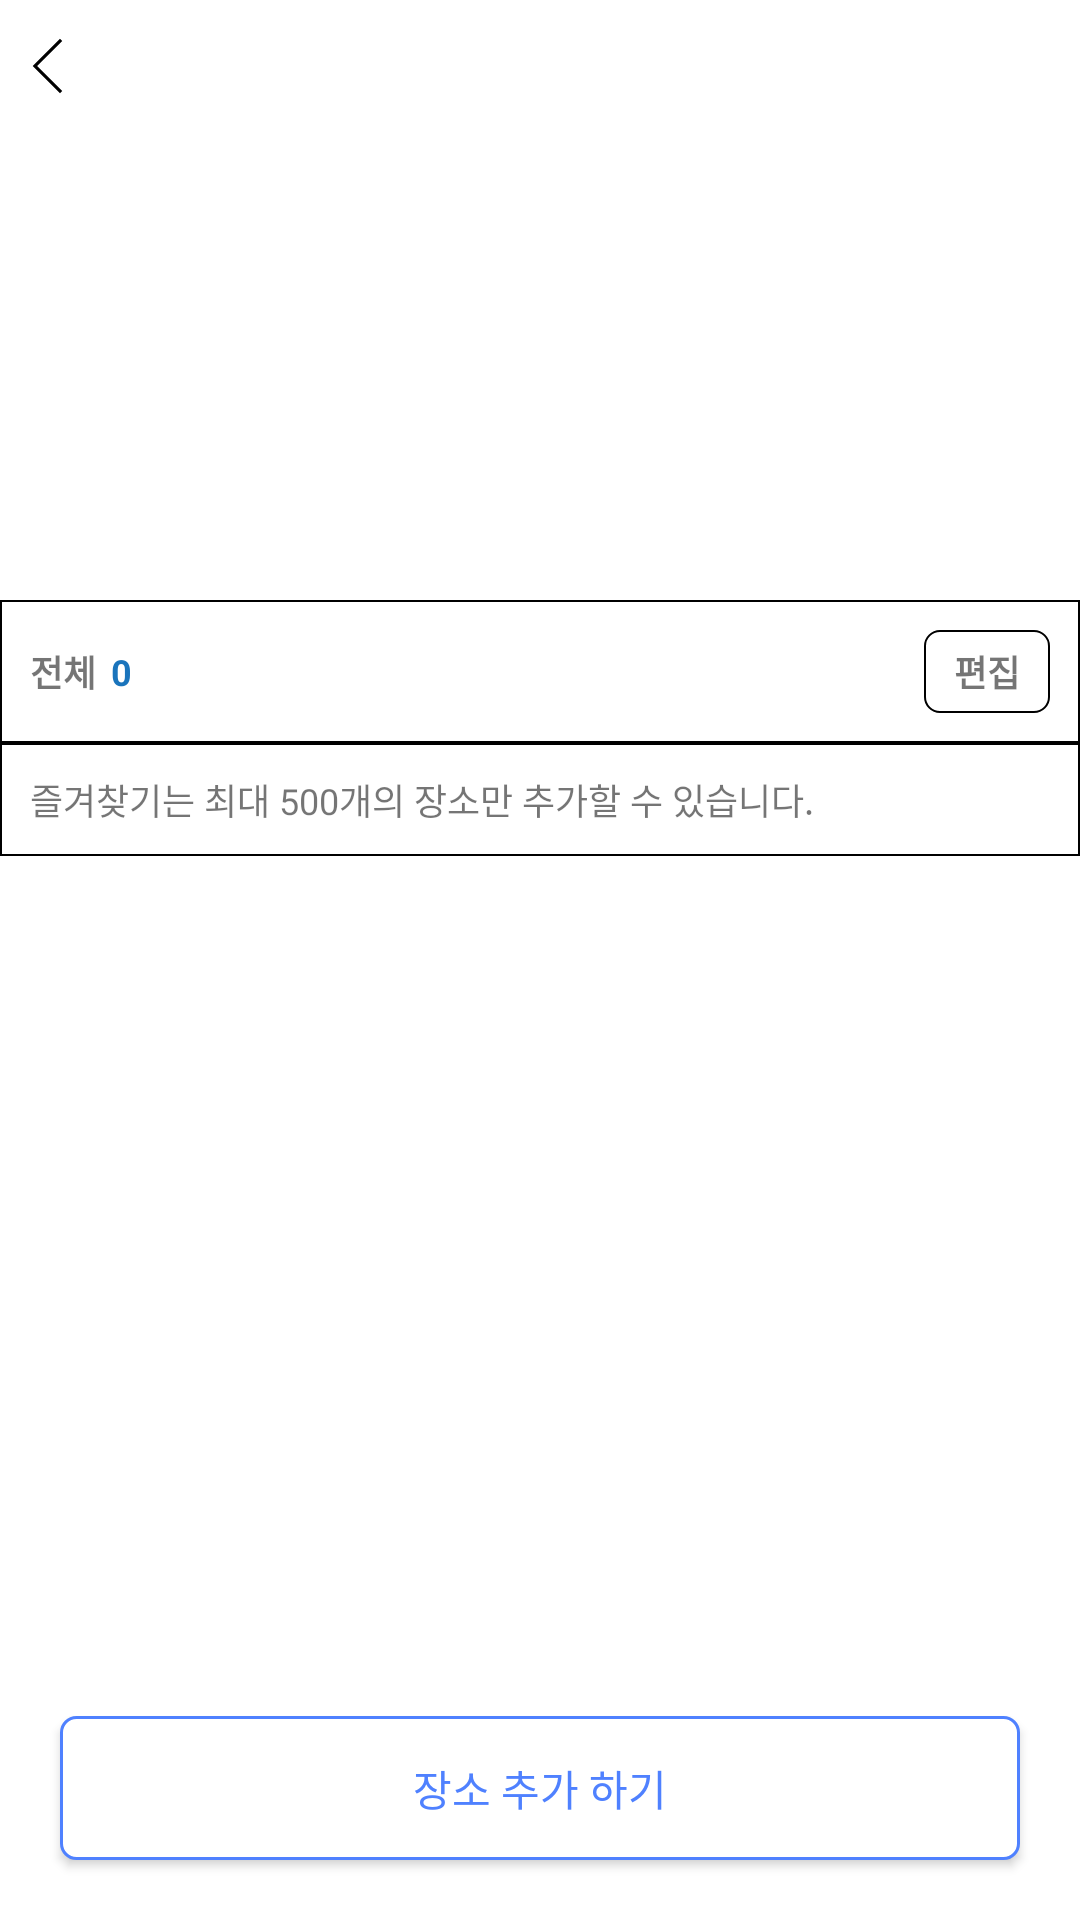

Named icons in this screenshot (1080 x 1920) and their bounding boxes, (x1, y1, x2, y2):
arrow back: (33, 39, 62, 93)
